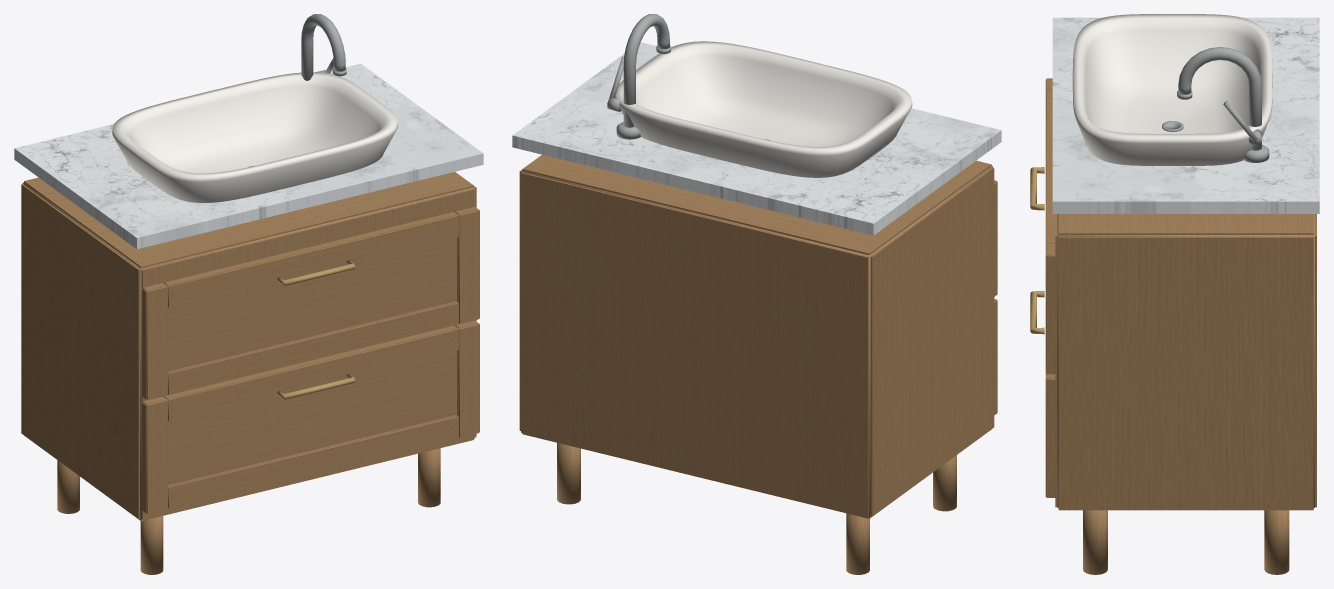
Rendered from country.vanity.gltf.
3 renders of one model, left to right at view 1: azimuth 30°, elevation 25°; view 2: azimuth 150°, elevation 25°; view 3: azimuth 270°, elevation 25°, orthographic. The views are drawn at different scales.
Visible parts, largest first — view 1: country.vanity.foot; view 2: country.vanity.foot; view 3: country.vanity.foot.
Boxes of the visible parts, x1,y1,x2,y2 form: country.vanity.foot: (14, 14, 483, 574); country.vanity.foot: (512, 14, 1001, 574); country.vanity.foot: (1030, 14, 1319, 574).
Bounding box in the file's own units: 0.8 × 1.01 × 0.531.
5 materials, 2 textured.
